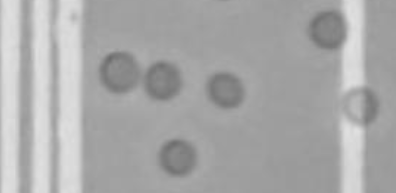cell: (92, 44, 146, 100), (138, 57, 188, 108), (336, 80, 385, 130), (303, 6, 353, 54), (201, 64, 249, 111), (153, 134, 202, 180)
